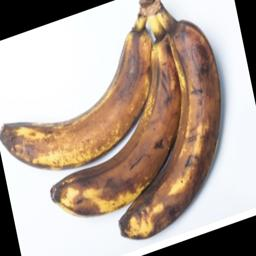Banana Rotten: (4, 4, 238, 244)
